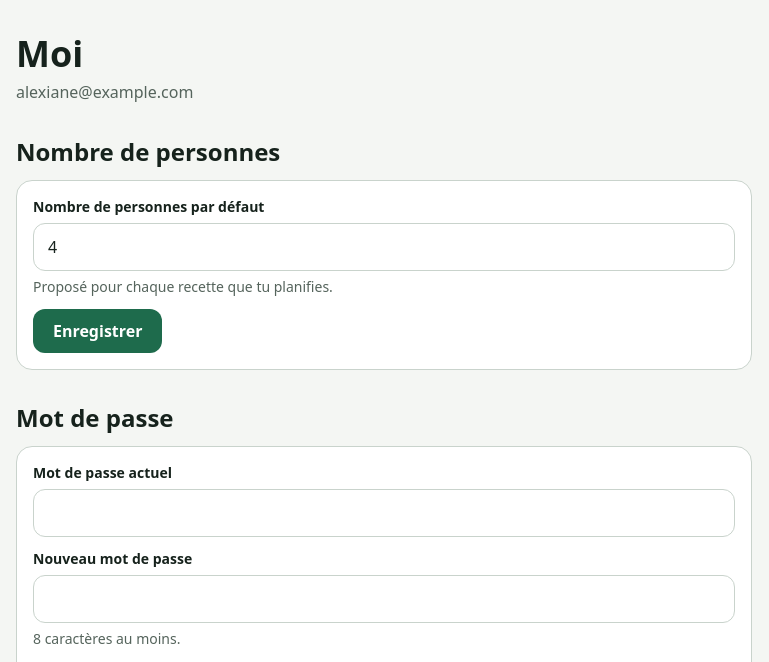
Test: réglages du compte › dit quoi corriger dans le formulaire du mot de passe, sans appeler le back
The width and height of the screenshot is (769, 662).
Type "court" into the password field labelled "Nouveau mot de passe" at (384, 599), box [33,575,735,623]
(page scrolled)
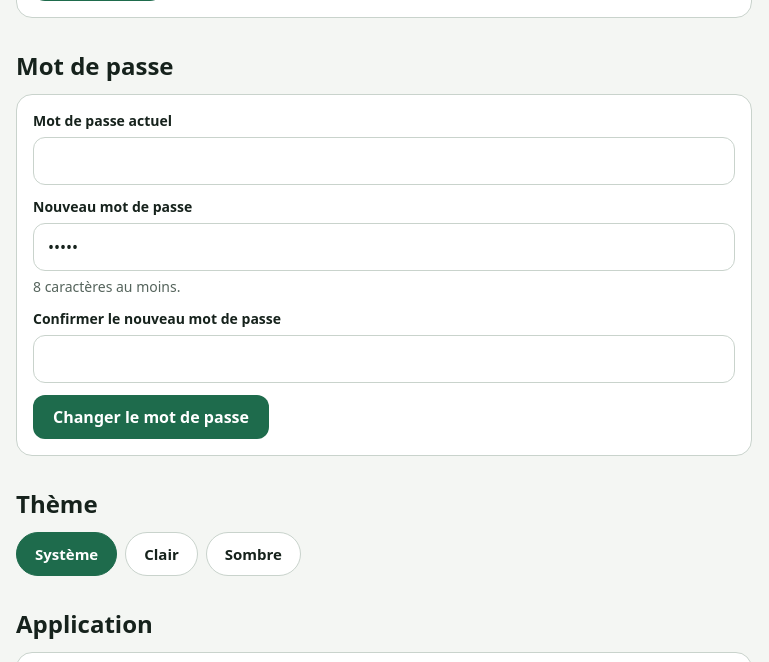
Type "autre" into the password field labelled "Confirmer le nouveau mot de passe" at (384, 359), box [33,335,735,383]
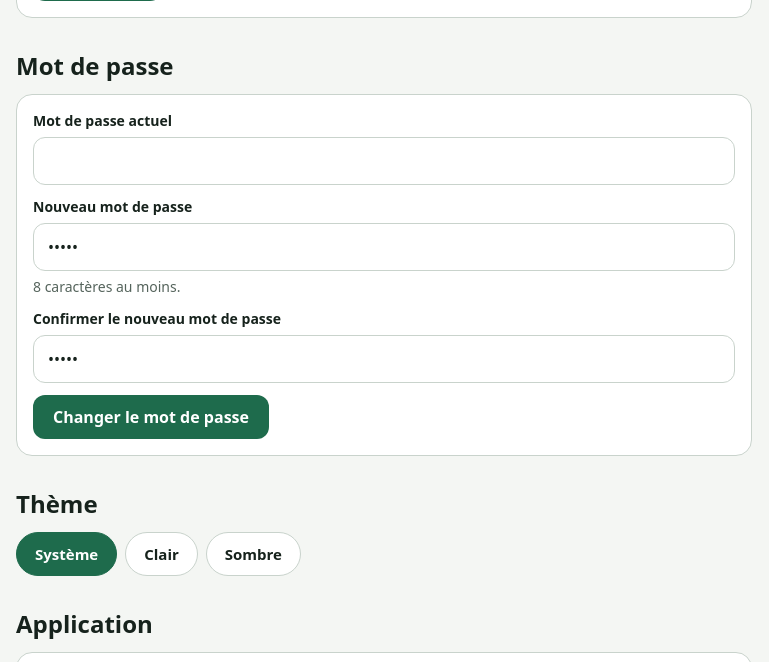
Submit the form that starts with "Mot de passe actuel", box [16,94,752,456]
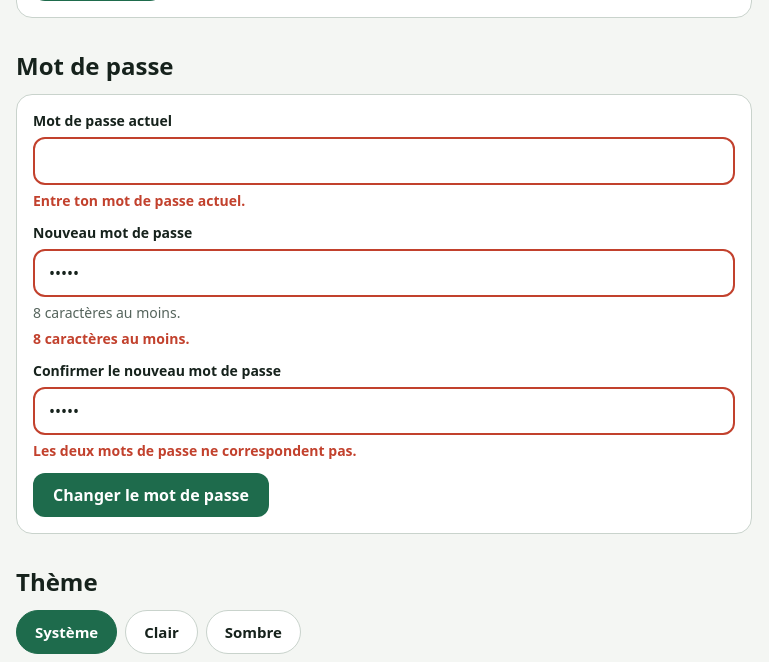
Expected: the text "8 caractères au moins." is shown, [33,303,180,322]
Now the text "Entre ton mot de passe actuel." is shown, box [33,191,245,210]
Now the text "Les deux mots de passe ne correspondent pas." is shown, box [33,441,356,460]
